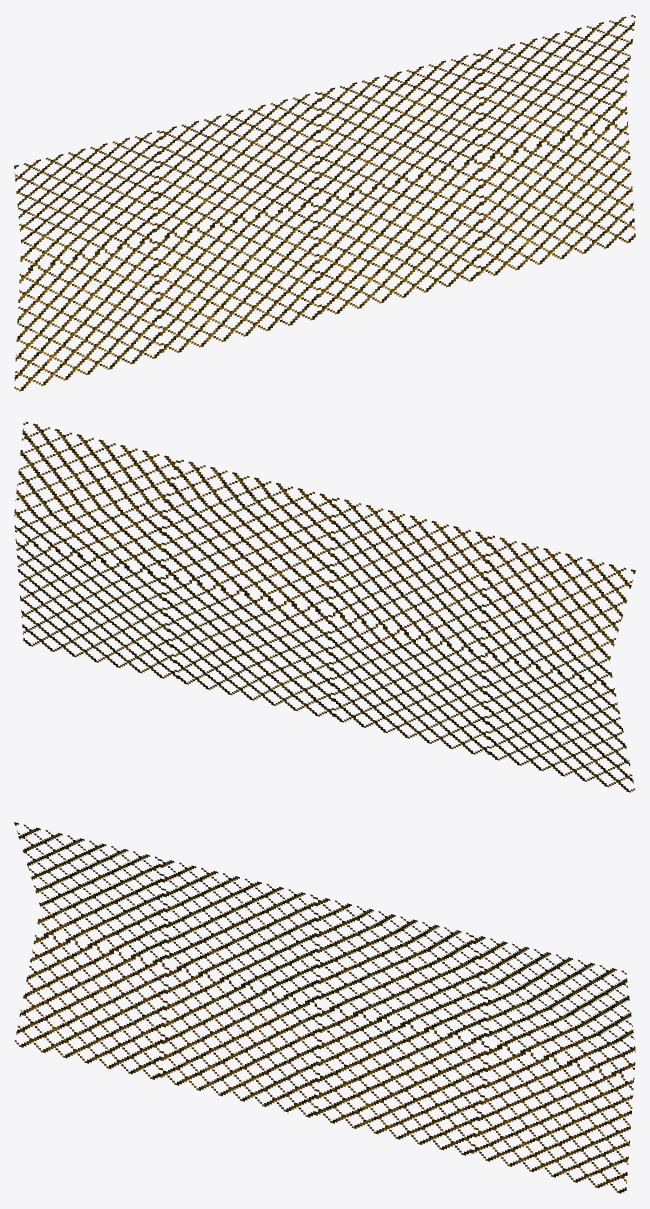
The model's file is W_A2l_xxxx_Verschoben_1833.glb.
The picture shows the model from 3 angles, top to bottom: view 1: azimuth 30°, elevation 25°; view 2: azimuth 150°, elevation 25°; view 3: azimuth 330°, elevation 25°; orthographic projection.
Parts seen in each view (by area): view 1: polySurfaceShape787; view 2: polySurfaceShape787; view 3: polySurfaceShape787.
Boxes of the visible parts, x1,y1,x2,y2 form: polySurfaceShape787: [14, 15, 635, 391]; polySurfaceShape787: [14, 421, 635, 792]; polySurfaceShape787: [14, 822, 635, 1193].
Size of the model in its own units: 1 by 0.3486 by 0.0275.
Materials: 1 (1 with a texture image).
